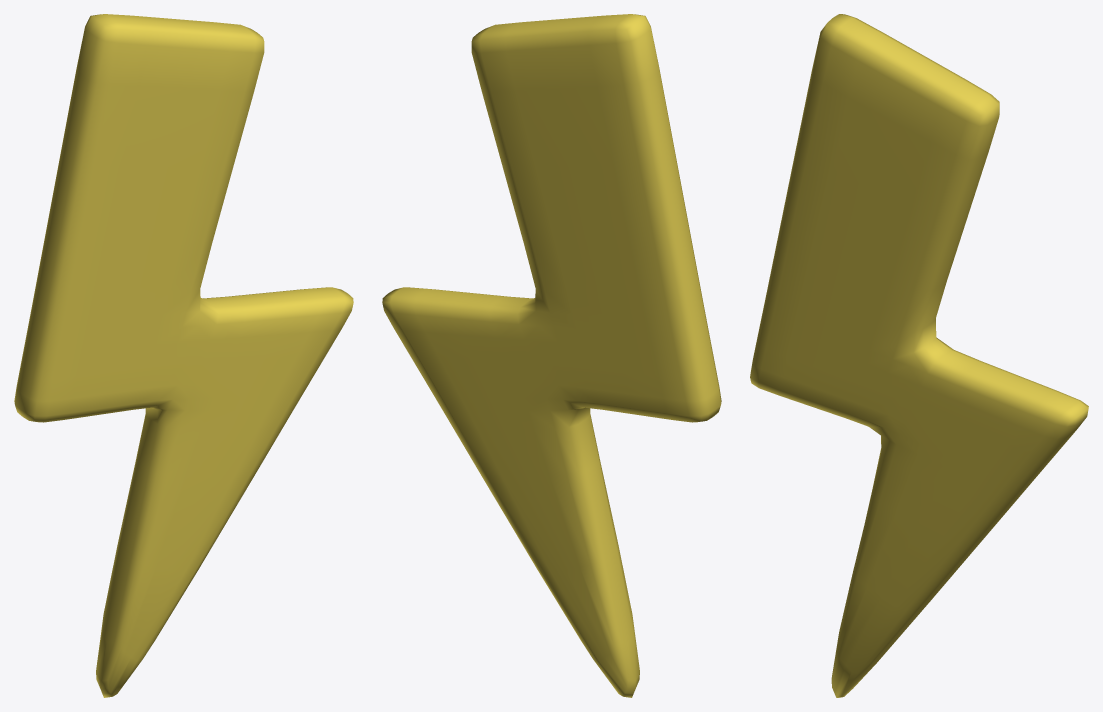
The model's file is Bolt (2).fbx.
The picture shows the model from 3 angles, left to right: view 1: azimuth 30°, elevation 25°; view 2: azimuth 150°, elevation 25°; view 3: azimuth 330°, elevation 25°; orthographic projection.
Parts seen in each view (by area): view 1: Bolt; view 2: Bolt; view 3: Bolt.
Boxes of the visible parts, x1,y1,x2,y2 form: Bolt: (14, 14, 353, 697); Bolt: (382, 14, 721, 697); Bolt: (750, 14, 1088, 697).
Bounding box in the file's own units: 21.17 × 41.93 × 2.8.
